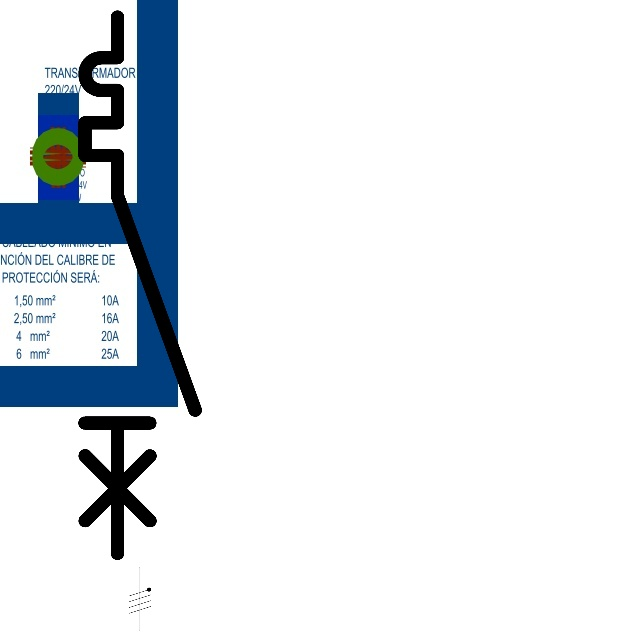interruptor_termomagnetico: (71, 3, 209, 567)
